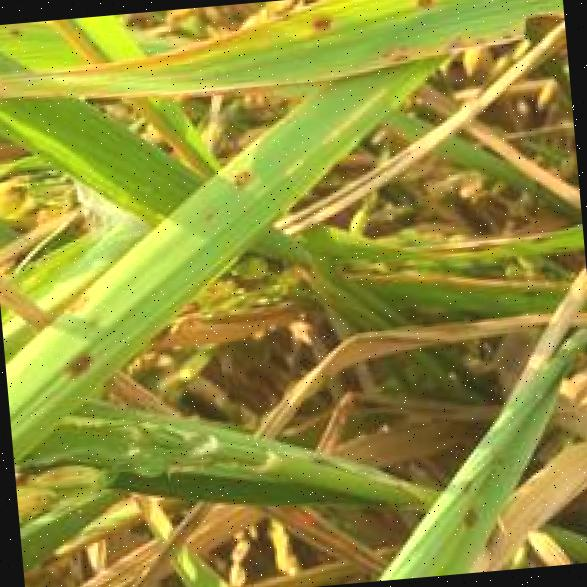Brown_Spot: (48, 342, 98, 380), (300, 3, 342, 35), (450, 496, 476, 527), (219, 163, 254, 184), (404, 0, 440, 10)
